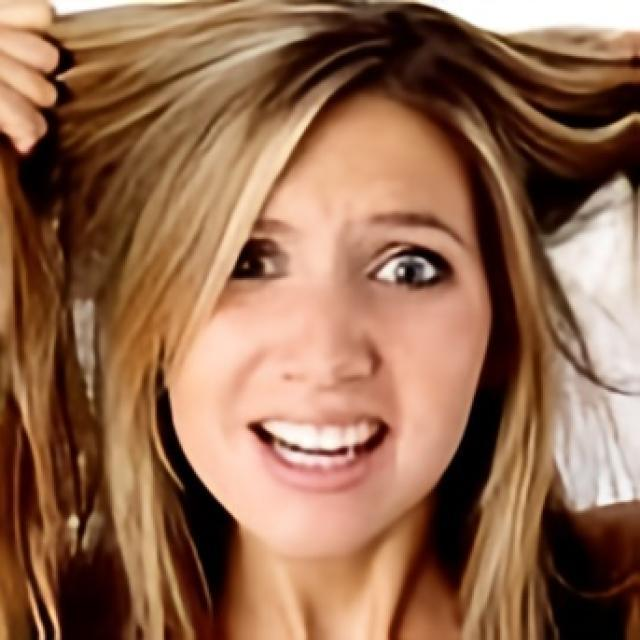fear: (168, 80, 494, 556)
